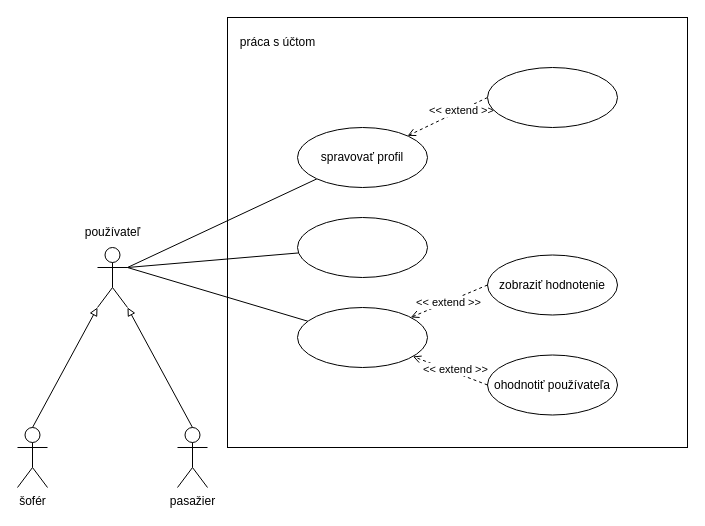
Some shapes in this 705 by 526 pixel diagram are drawn without their labels. Each missing label, with the centre of its shape:
hodnotenie: [362,337]
zmenenie osobných údajov: [552,97]
zobraziť históriu jázd: [362,247]
